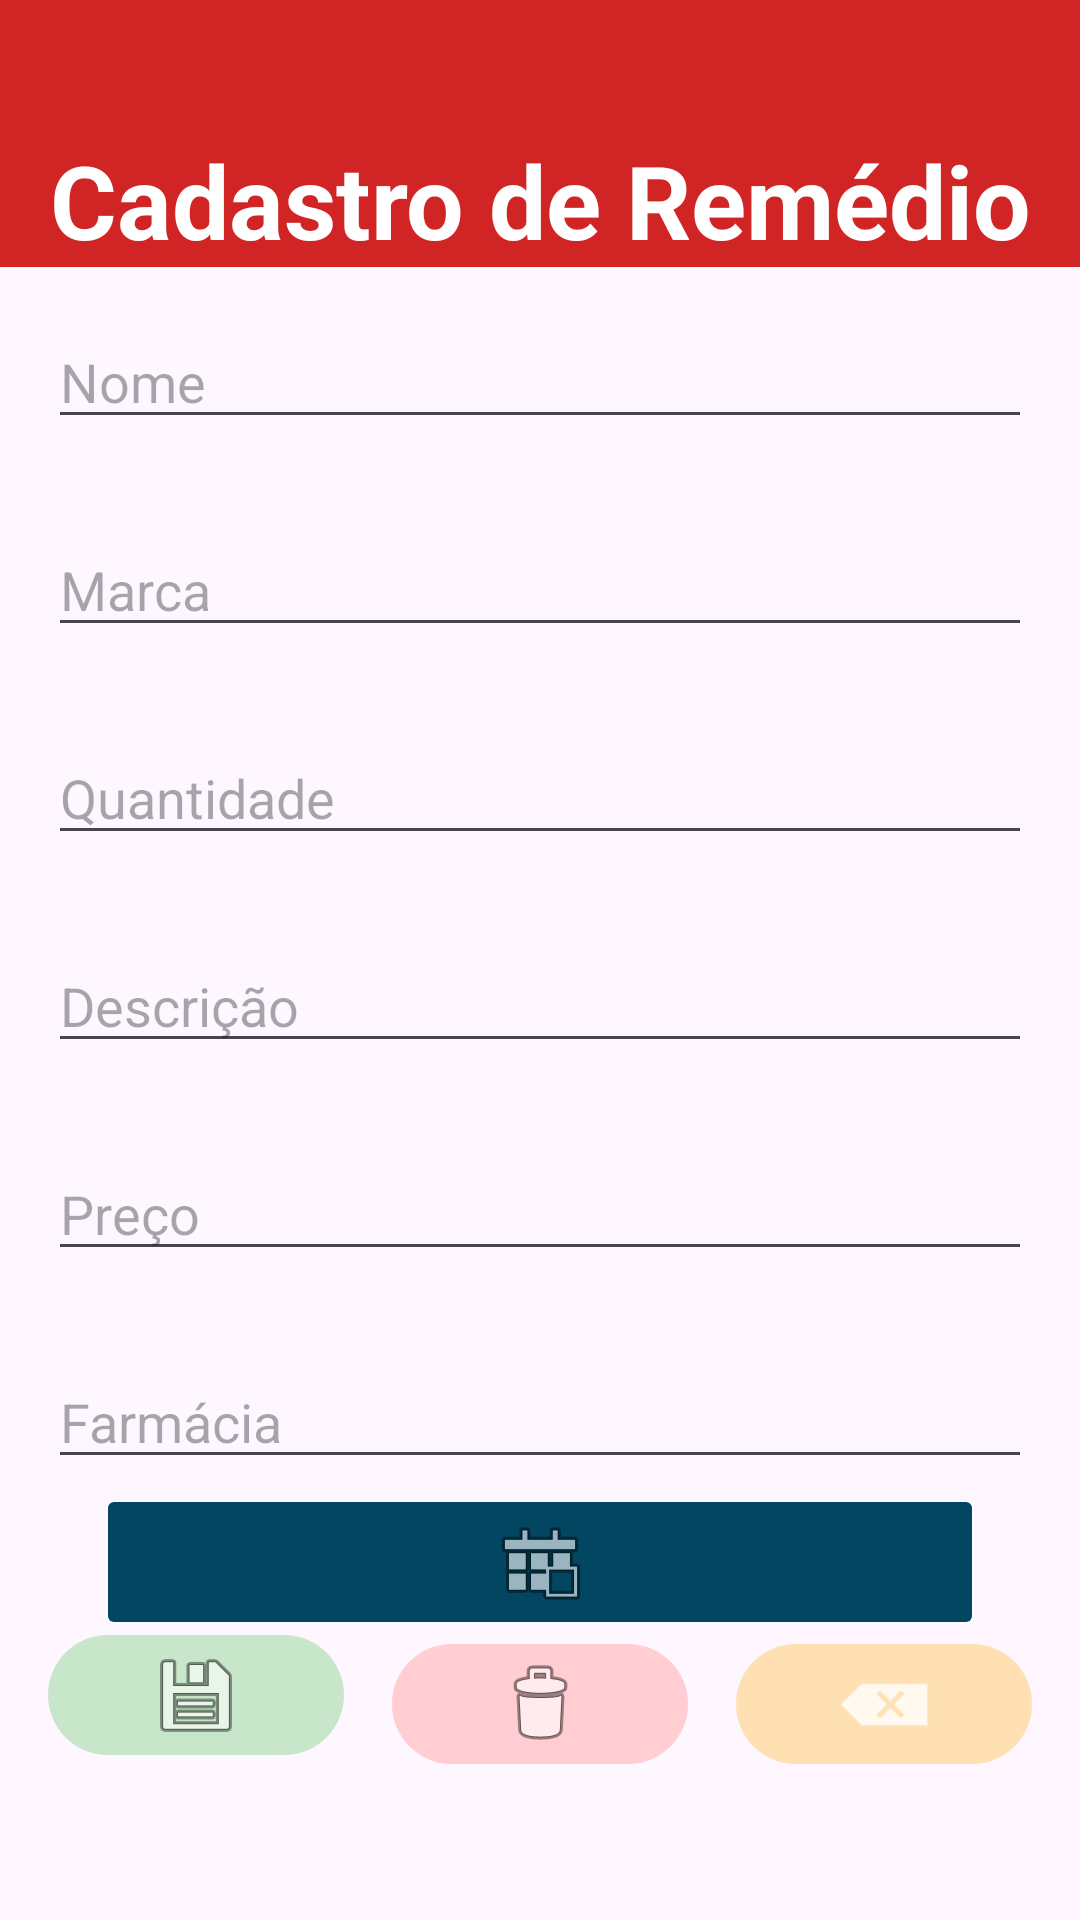

Icon bounding boxes for this 1080 x 1920 phone screenshot, format (x1, y1, x2, y2):
delete: (392, 1644, 688, 1764), (736, 1644, 1032, 1764)
save: (48, 1635, 344, 1755)
